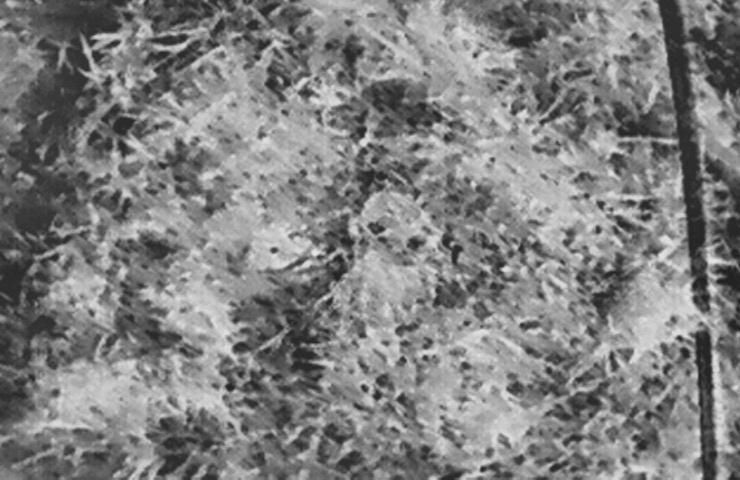landmines: (248, 219, 317, 276)
